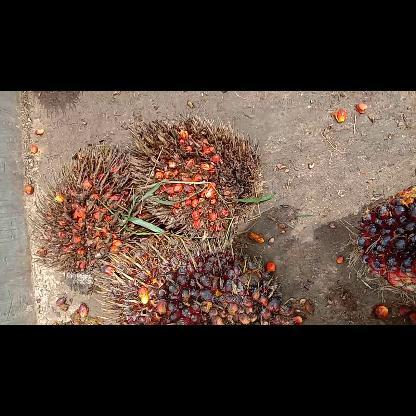TBS masak: (91, 230, 305, 324)
Terlalu masak: (120, 118, 262, 248), (28, 144, 134, 296)
